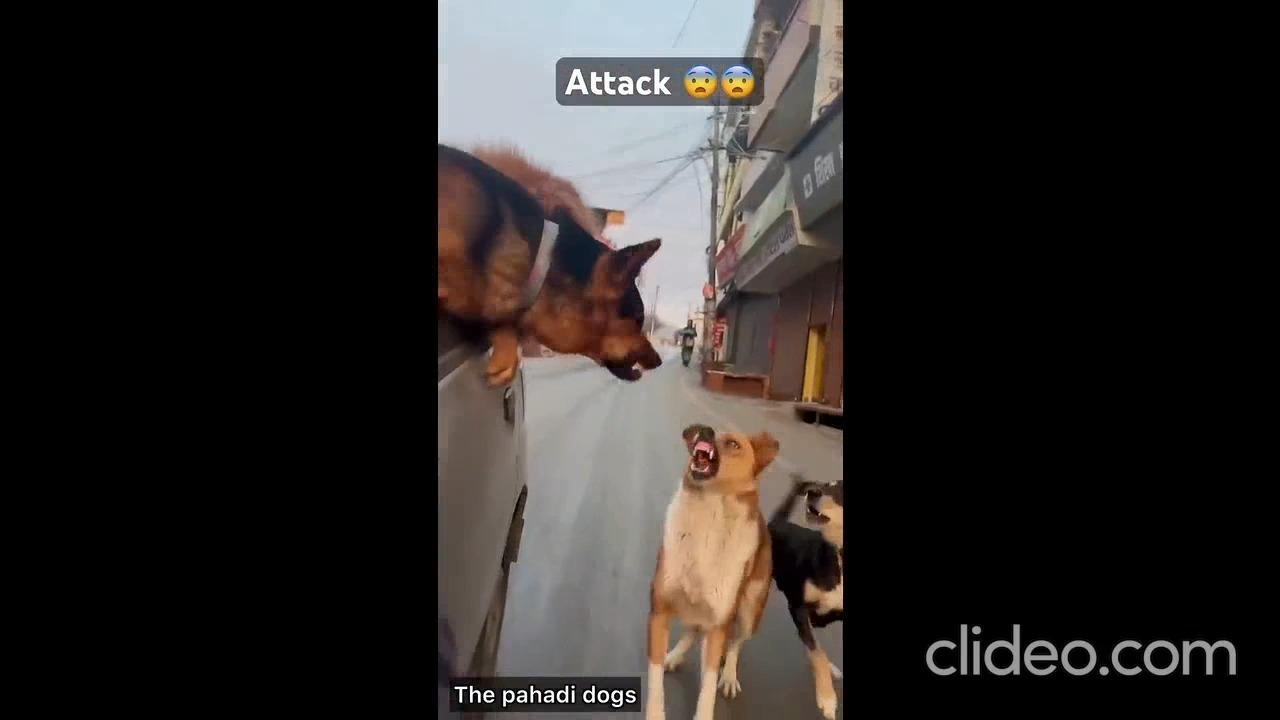dog: (639, 414, 781, 718), (756, 444, 842, 715)
